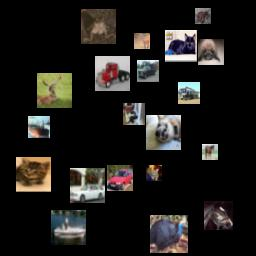automobile: (70, 168, 105, 203), (107, 165, 133, 191)
bird: (150, 215, 188, 253)
cat: (16, 157, 51, 192), (165, 30, 197, 62), (123, 103, 145, 125), (146, 165, 162, 181)
deer: (37, 73, 72, 108), (134, 33, 150, 49)
dog: (146, 115, 181, 150), (198, 39, 224, 65)
frog: (81, 9, 116, 44), (195, 8, 211, 24)
ship: (51, 210, 86, 245), (28, 116, 50, 138)
truck: (95, 56, 130, 91), (137, 60, 159, 82), (178, 82, 200, 104)
